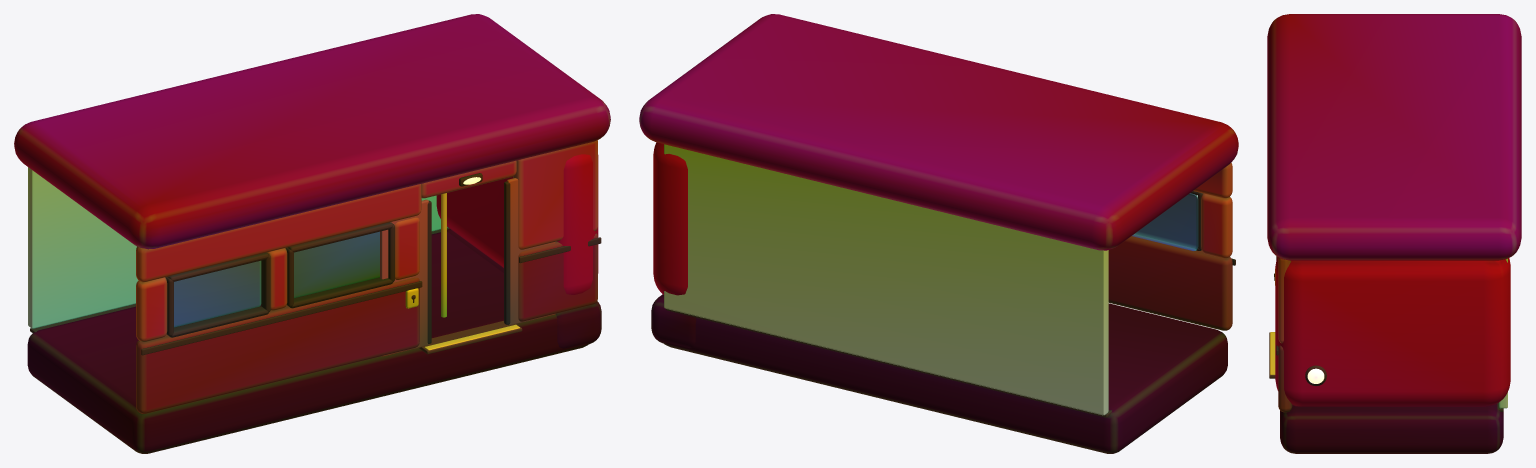
Rendered from WagonCorner_Blockout.fbx.
3 views of the same model, side by side, from view 1: azimuth 30°, elevation 25°; view 2: azimuth 150°, elevation 25°; view 3: azimuth 270°, elevation 25° (orthographic). The views are drawn at different scales.
Parts seen in each view (by area): view 1: Shell, Windows, Interior, DoorLeaf_L, DoorLeaf_R, DoorSill, HandPole; view 2: Shell, Interior, Windows; view 3: Shell, HeadLight, DoorSill.
Part boxes in pixels (left/top/right/bottom): Shell: left=14, top=14, right=610, bottom=453; Windows: left=165, top=222, right=394, bottom=337; Interior: left=28, top=167, right=449, bottom=332; DoorLeaf_L: left=380, top=199, right=431, bottom=356; DoorLeaf_R: left=504, top=178, right=555, bottom=325; DoorSill: left=419, top=321, right=522, bottom=354; HandPole: left=441, top=193, right=446, bottom=317; Shell: left=639, top=14, right=1238, bottom=453; Interior: left=664, top=144, right=1111, bottom=417; Windows: left=1132, top=191, right=1202, bottom=250; Shell: left=1267, top=14, right=1521, bottom=453; HeadLight: left=1305, top=365, right=1326, bottom=385; DoorSill: left=1269, top=332, right=1275, bottom=378.
Bounding box in the file's own units: 5.79 × 2.89 × 2.82.
